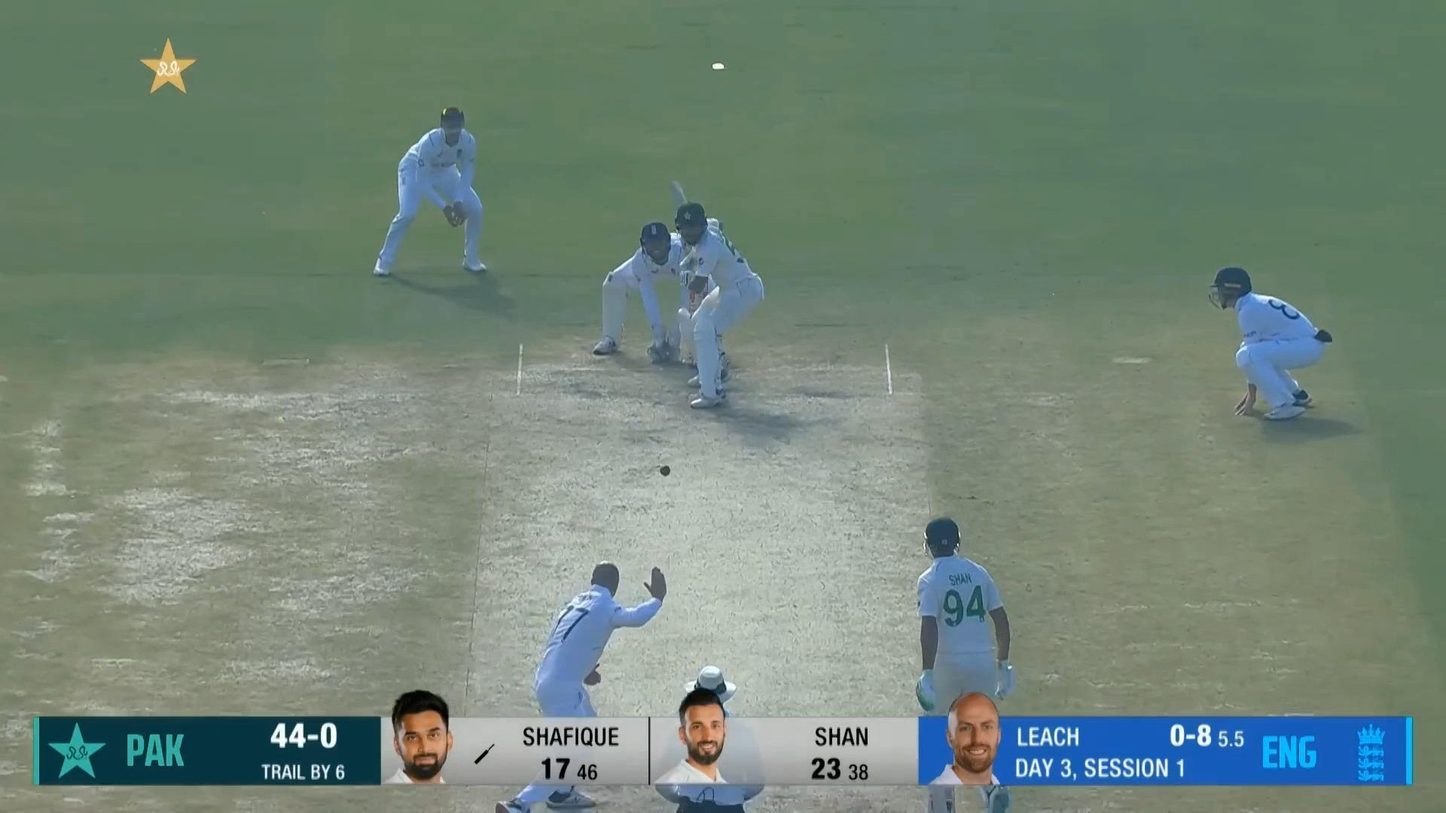BM 1: (672, 180, 765, 409)
BO: (489, 555, 672, 813)
